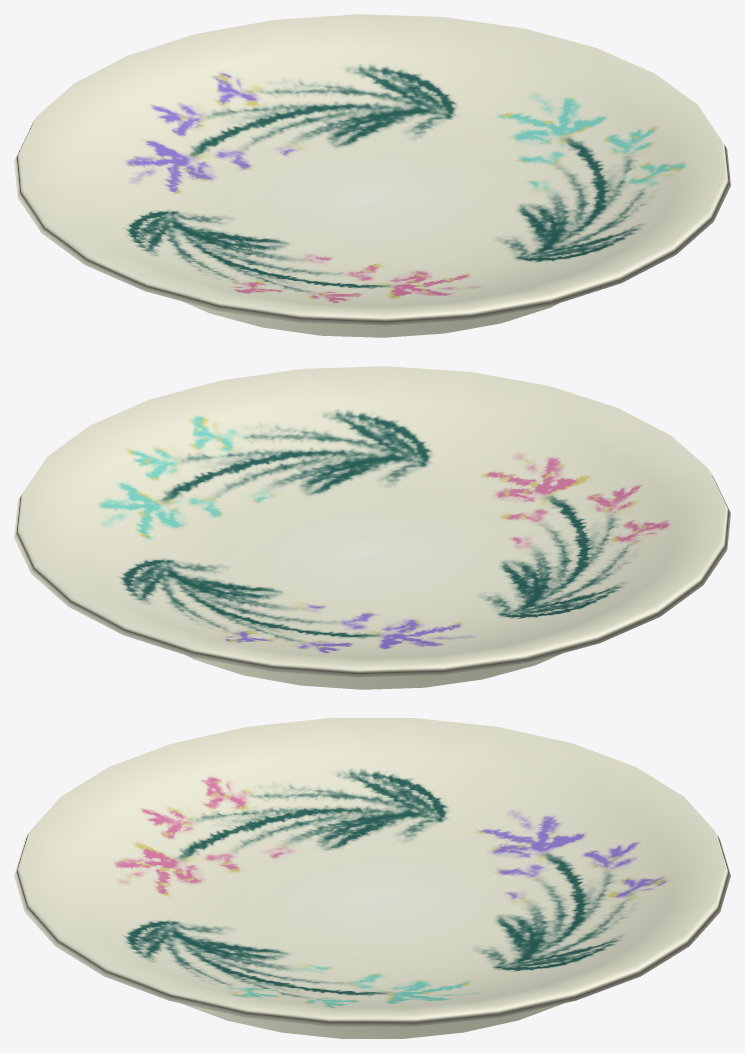
File: bord final.fbx
3 views of the same model, one above another, from view 1: azimuth 30°, elevation 25°; view 2: azimuth 150°, elevation 25°; view 3: azimuth 270°, elevation 25° (orthographic).
Parts seen in each view (by area): view 1: nurbsToPoly1; view 2: nurbsToPoly1; view 3: nurbsToPoly1.
Part boxes in pixels (left/top/right/bottom): nurbsToPoly1: left=14, top=14, right=730, bottom=337; nurbsToPoly1: left=14, top=366, right=730, bottom=689; nurbsToPoly1: left=14, top=718, right=730, bottom=1038.
Size of the model in its own units: 9.51 by 0.9636 by 9.59.
1 material, 1 textured.
